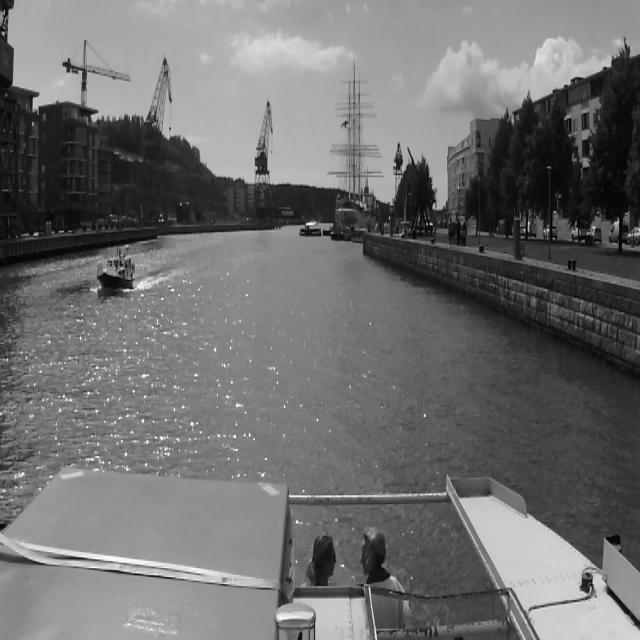ship: (329, 66, 387, 225), (96, 258, 136, 292), (299, 224, 321, 237), (328, 224, 342, 242)
